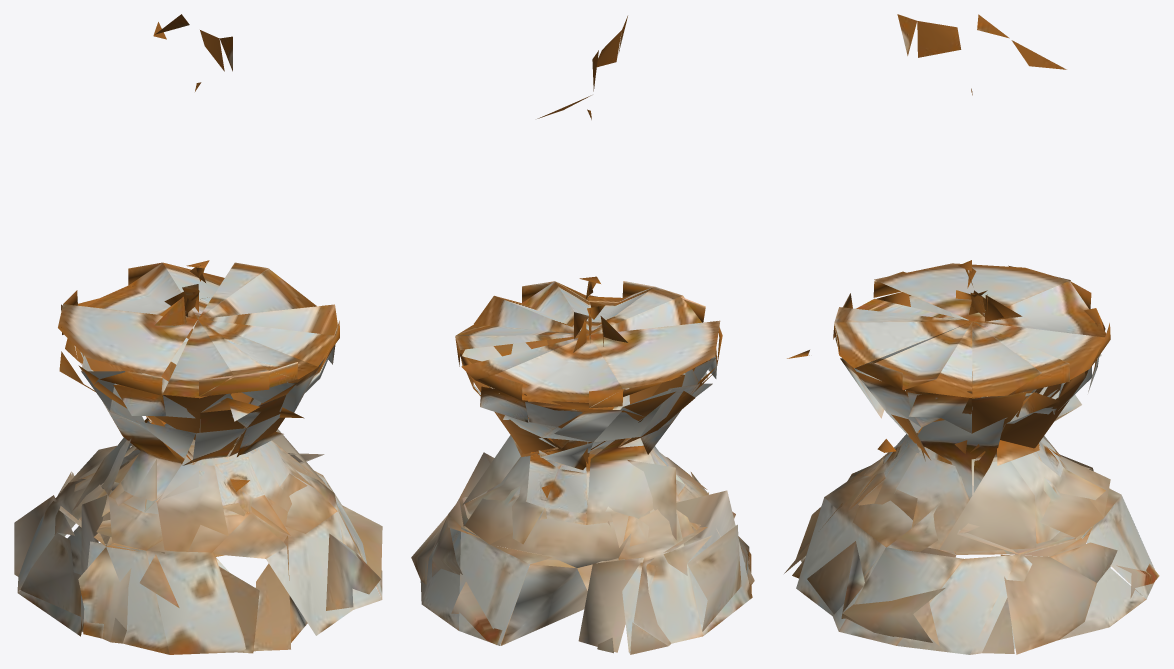
The model's file is glide-perch.lod1.glb.
3 renders of one model, left to right at view 1: azimuth 30°, elevation 25°; view 2: azimuth 150°, elevation 25°; view 3: azimuth 270°, elevation 25°, orthographic. The views are drawn at different scales.
Parts seen in each view (by area): view 1: glide-perch_lod1; view 2: glide-perch_lod1; view 3: glide-perch_lod1.
Boxes of the visible parts, box(x1,y1,x2,y2) form: glide-perch_lod1: box(14, 14, 382, 654); glide-perch_lod1: box(411, 16, 754, 654); glide-perch_lod1: box(784, 14, 1159, 654).
Bounding box in the file's own units: 1.12 × 1.97 × 1.18.
1 material, 1 textured.
